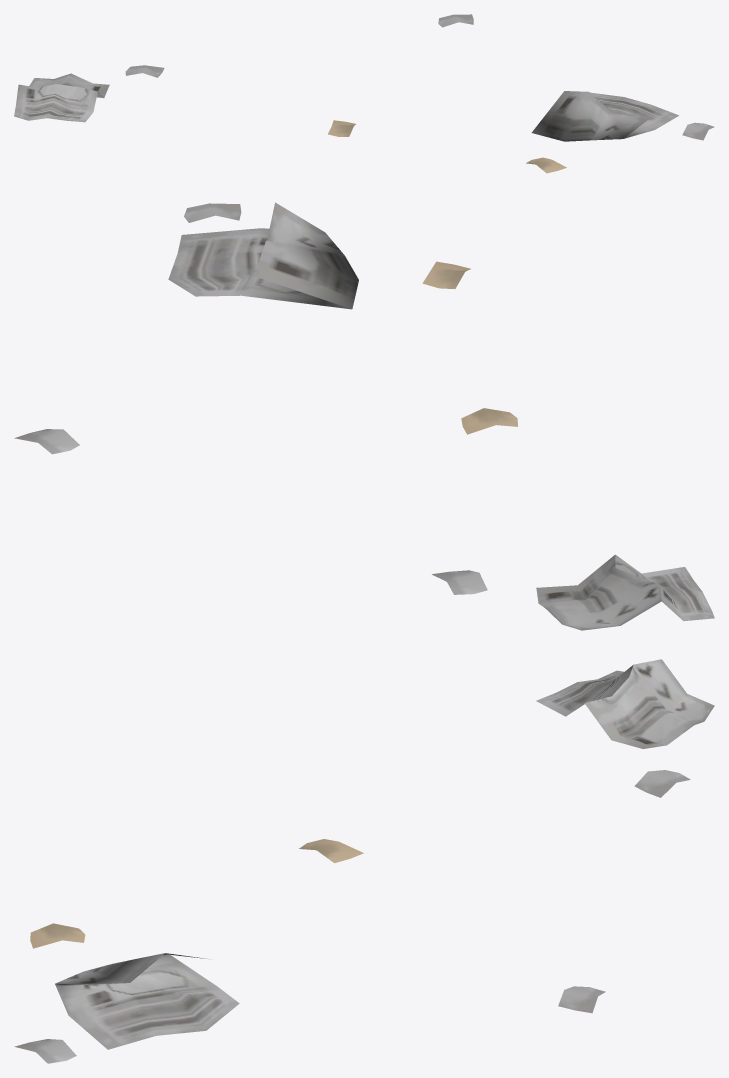
Rendered from SM_Trash_Paper03.glb.
The picture shows the model from 3 angles, top to bottom: view 1: azimuth 30°, elevation 25°; view 2: azimuth 150°, elevation 25°; view 3: azimuth 270°, elevation 25°; orthographic projection. The views are drawn at different scales.
Visible parts, largest first — view 1: SM_Trash_Paper03; view 2: SM_Trash_Paper03; view 3: SM_Trash_Paper03.
Part boxes in pixels (<box>): SM_Trash_Paper03: <box>14,14,714,173</box>; SM_Trash_Paper03: <box>14,202,714,630</box>; SM_Trash_Paper03: <box>14,659,714,1063</box>.
Bounding box in the file's own units: 0.9028 × 0.048 × 0.6854.
1 material, 1 textured.
